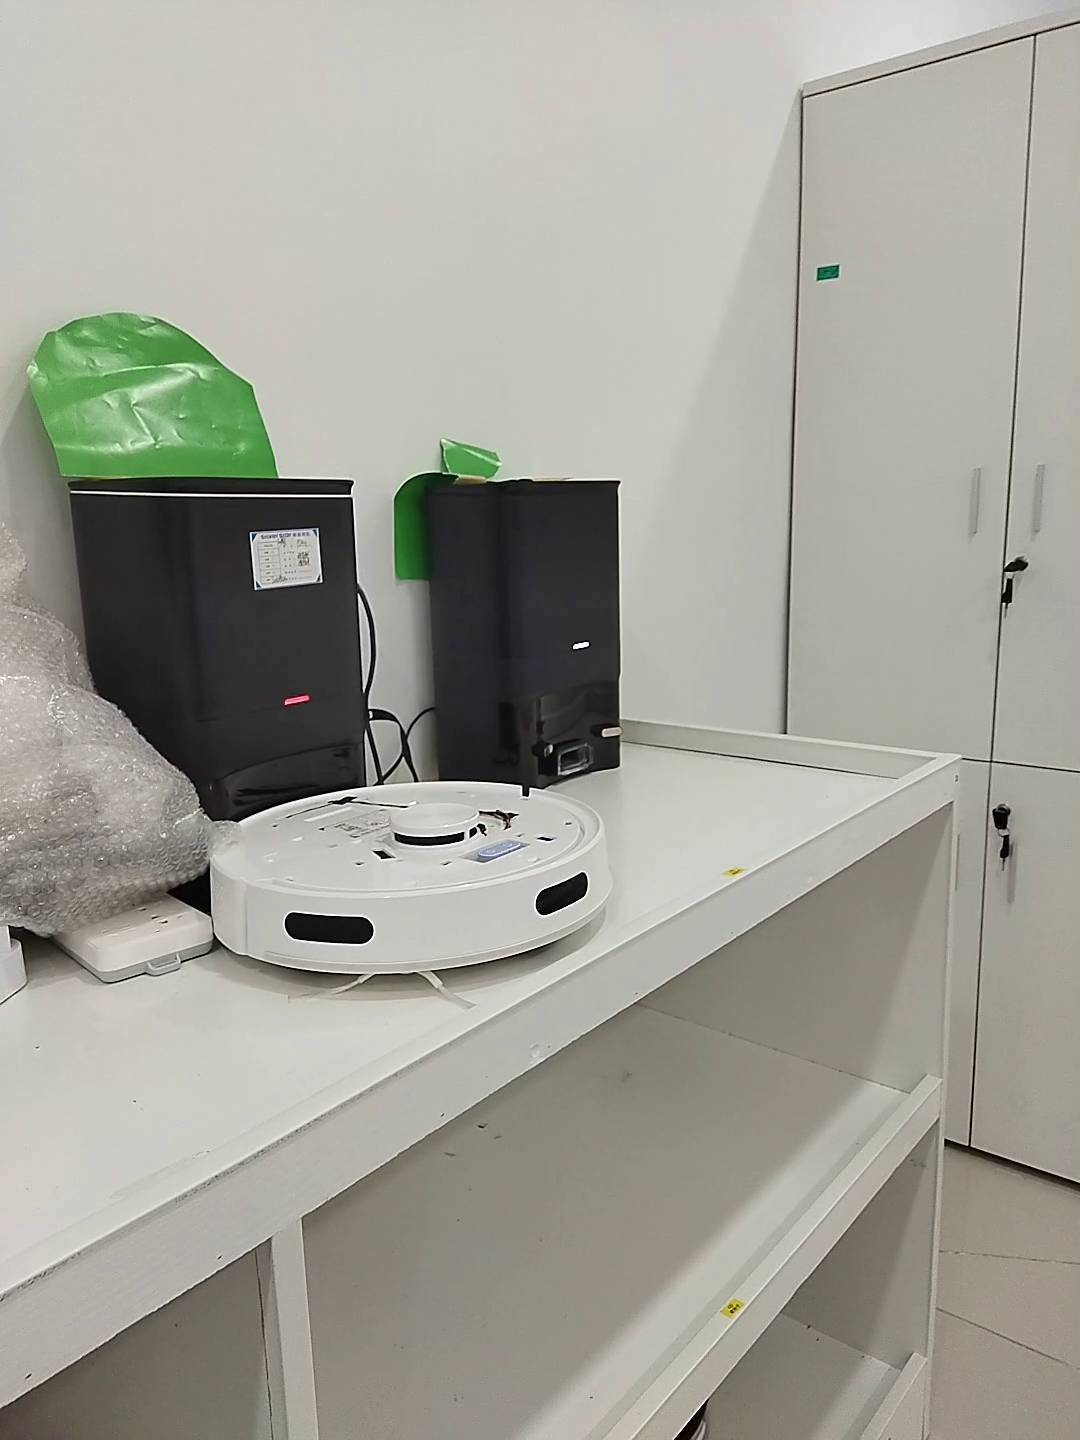dust collecting barrel: (68, 476, 371, 825), (425, 480, 623, 788)
